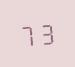seven: (19, 21, 36, 47)
three: (37, 20, 54, 45)
